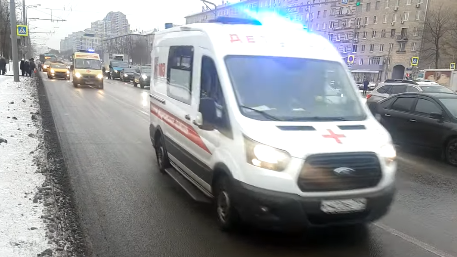ambulance: (148, 14, 397, 235)
intensive care unit: (72, 49, 103, 88)
non emergency car: (376, 89, 456, 166), (48, 63, 70, 80), (133, 65, 148, 88), (119, 67, 134, 82)
